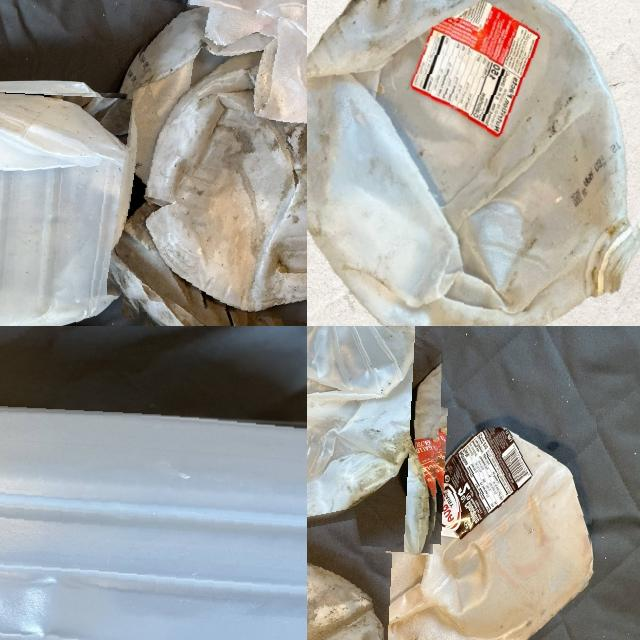milk-jug: (307, 0, 640, 326), (0, 409, 307, 640), (117, 5, 307, 319), (362, 406, 594, 640), (0, 85, 146, 326), (307, 326, 444, 551), (184, 0, 307, 126)
